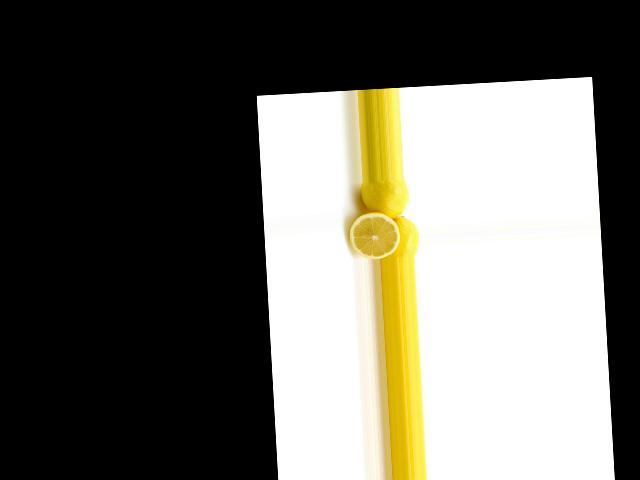lemon: (377, 208, 417, 258)
